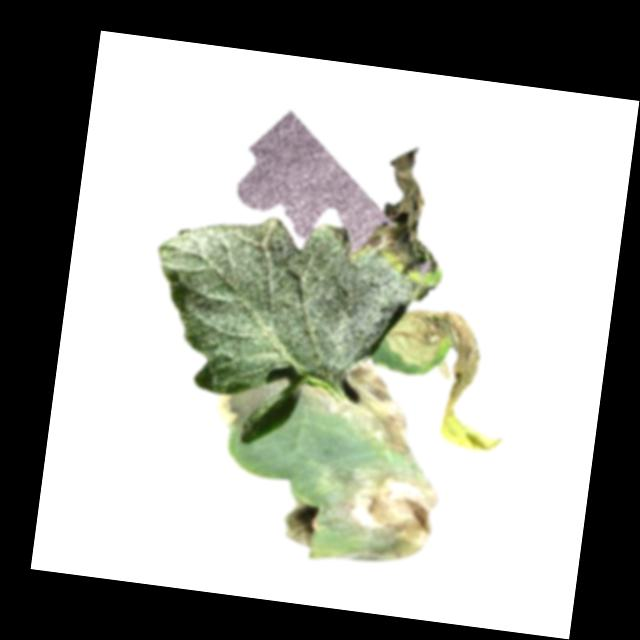Late_blight: (373, 301, 525, 456), (277, 454, 442, 576), (360, 143, 463, 296), (296, 357, 425, 458), (212, 373, 288, 434)
healthy: (139, 204, 421, 419)
